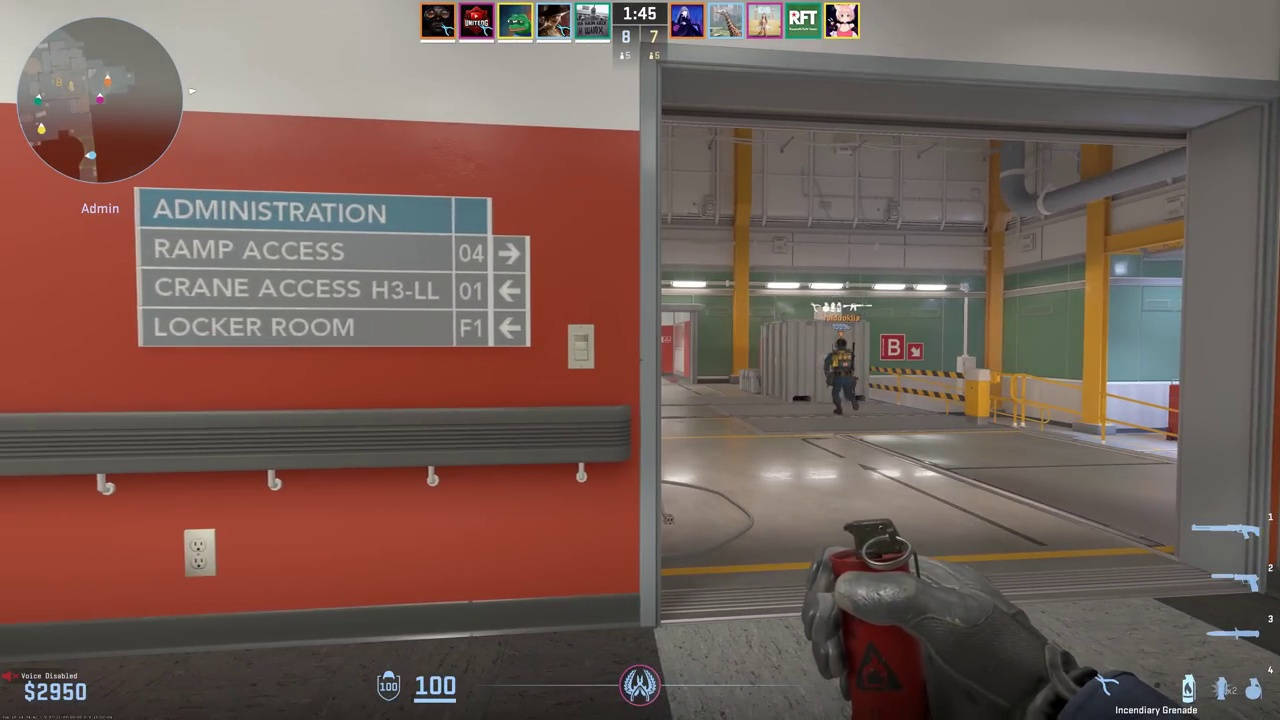CT: (828, 339, 857, 415)
